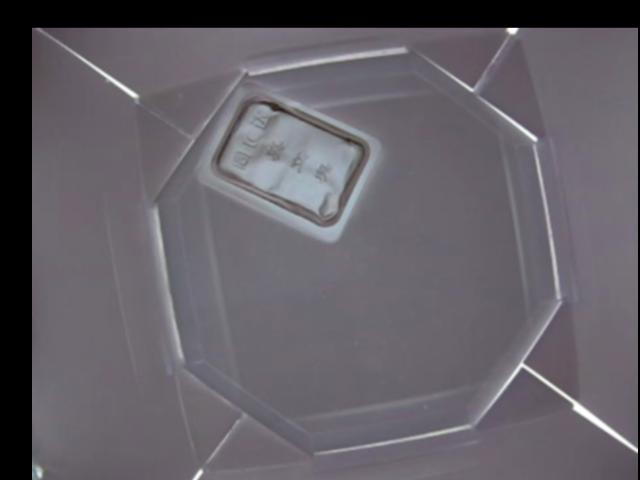Medicine: (199, 79, 379, 242)
